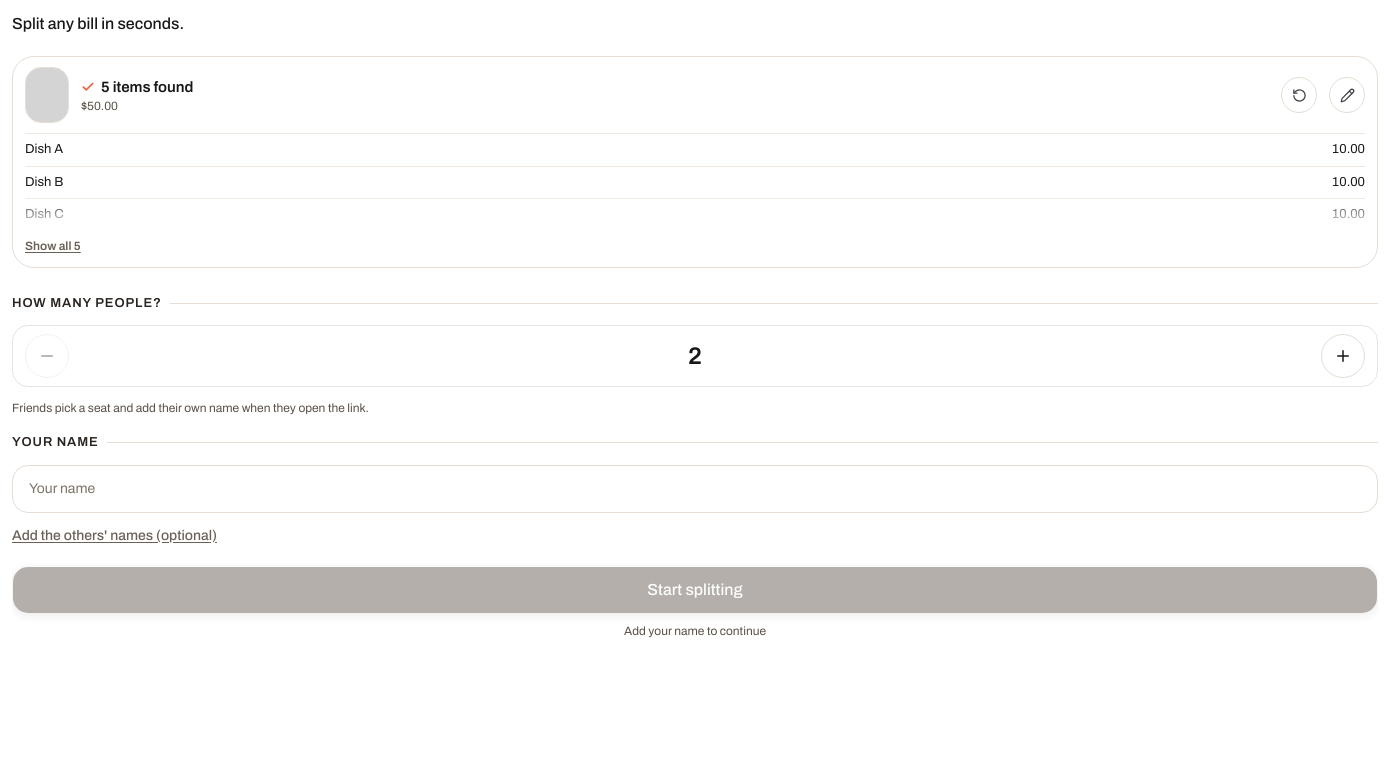
it: SetupStep — scanned bill review container + auto-open edit screen › previews the first 3 items with a "Show all" toggle when there are more
The width and height of the screenshot is (1390, 780).
Check: the number of list items is 3, box [25,134,1365,166]; [25,166,1365,199]; [25,207,1365,221]
Click the button "Show all 5" at (53, 242), box [25,230,81,254]
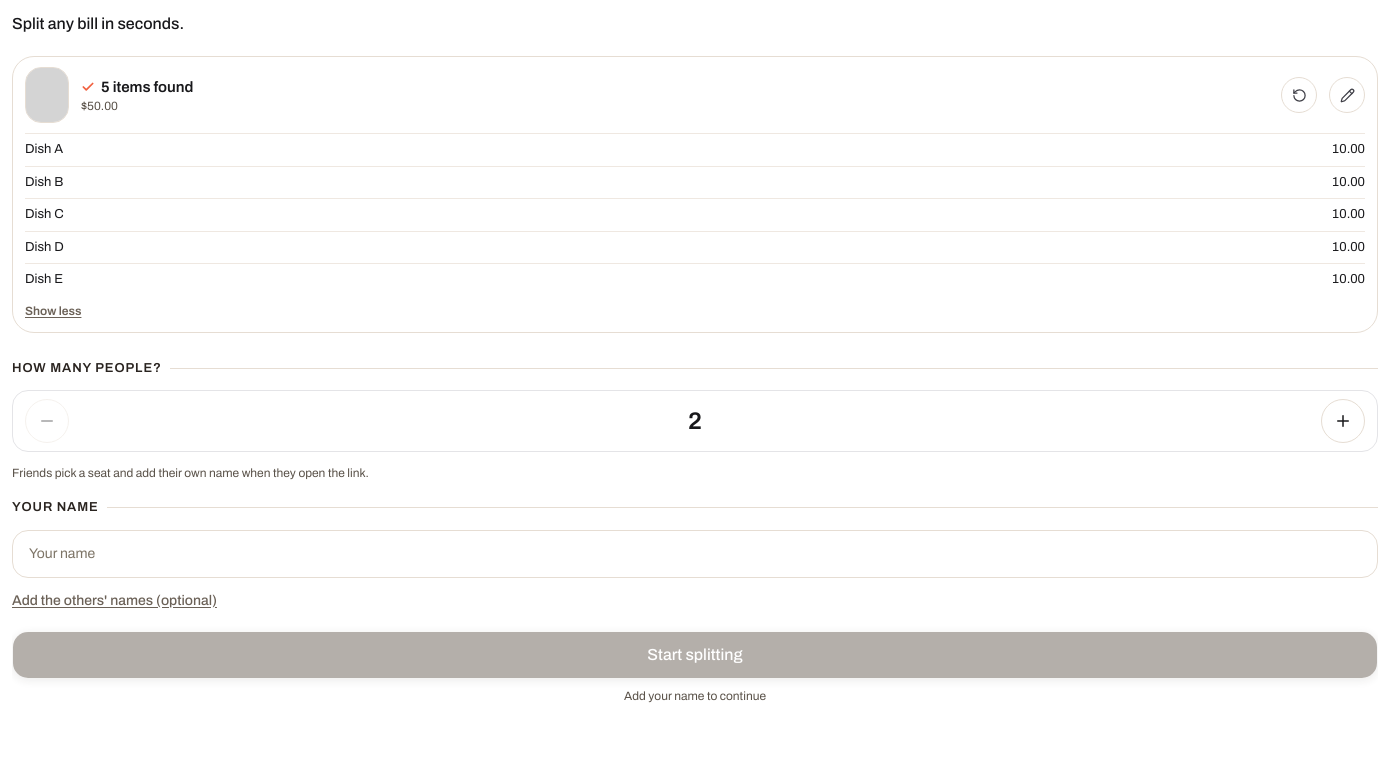
Check: the number of list items is 5, box [25,134,1365,166]; [25,166,1365,199]; [25,199,1365,232]; [25,232,1365,264]; [25,272,1365,286]
Click the button "Show less" at (53, 308), box [25,296,81,320]
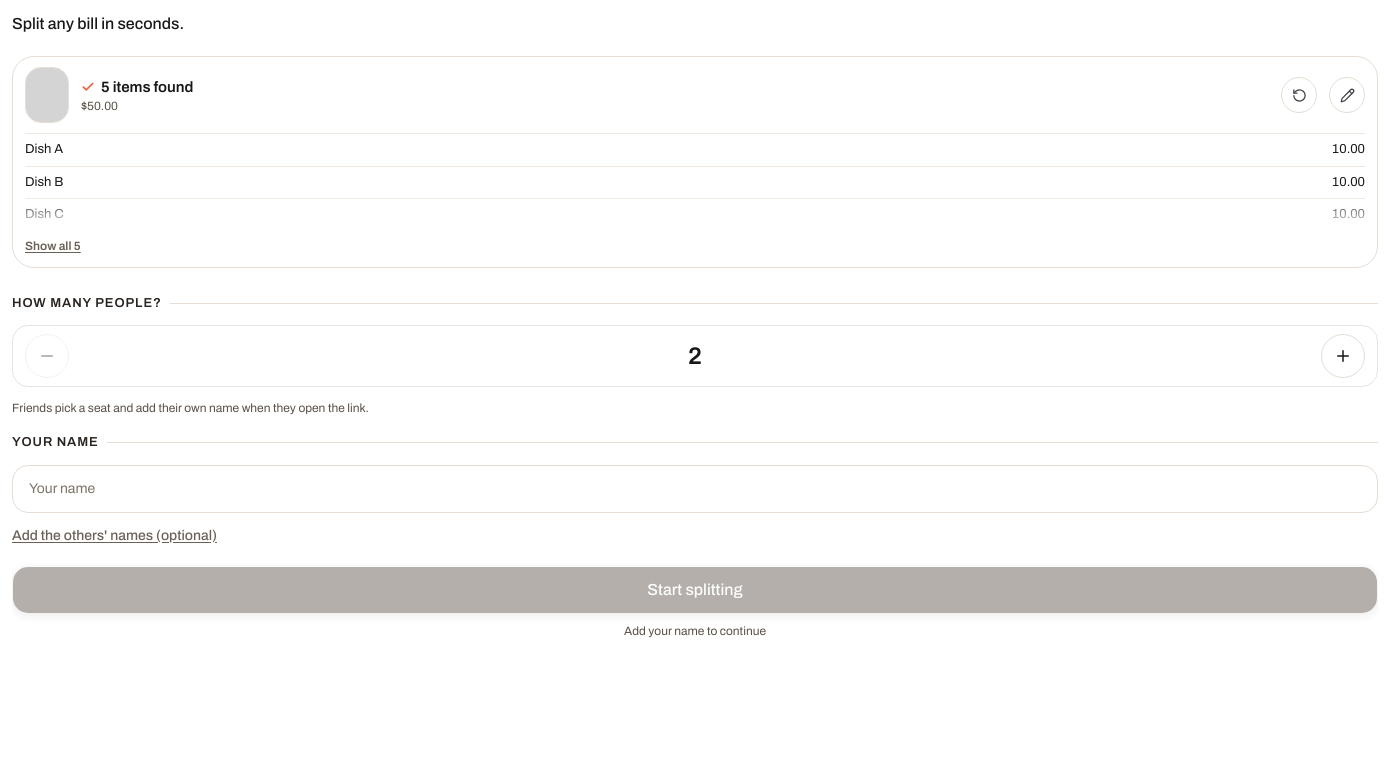
Check: the number of list items is 3, box [25,134,1365,166]; [25,166,1365,199]; [25,207,1365,221]
